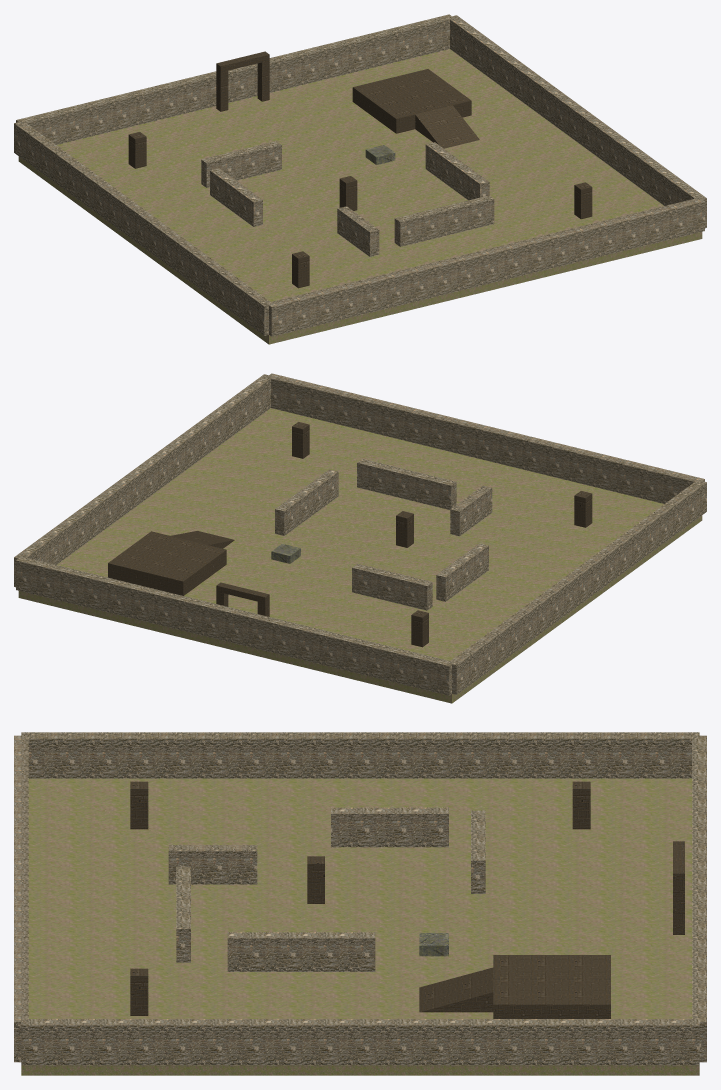
The model's file is grove.glb.
3 renders of one model, top to bottom at view 1: azimuth 30°, elevation 25°; view 2: azimuth 150°, elevation 25°; view 3: azimuth 270°, elevation 25°, orthographic. The views are drawn at different scales.
Parts seen in each view (by area): view 1: grove; view 2: grove; view 3: grove.
Part boxes in pixels (x1,y1,x2,y2): grove: [14, 14, 706, 344]; grove: [14, 373, 706, 703]; grove: [14, 732, 706, 1075].
Size of the model in its own units: 47 by 5.6 by 47.
4 materials, 4 textured.
